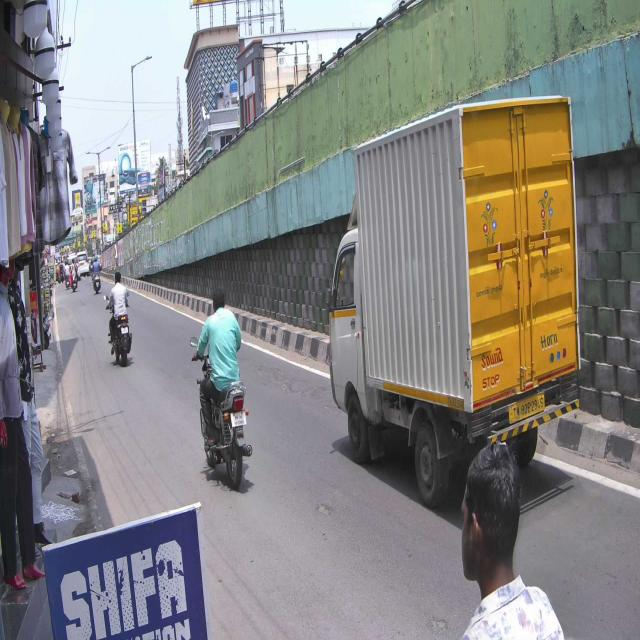single_rider: (189, 283, 256, 492)
